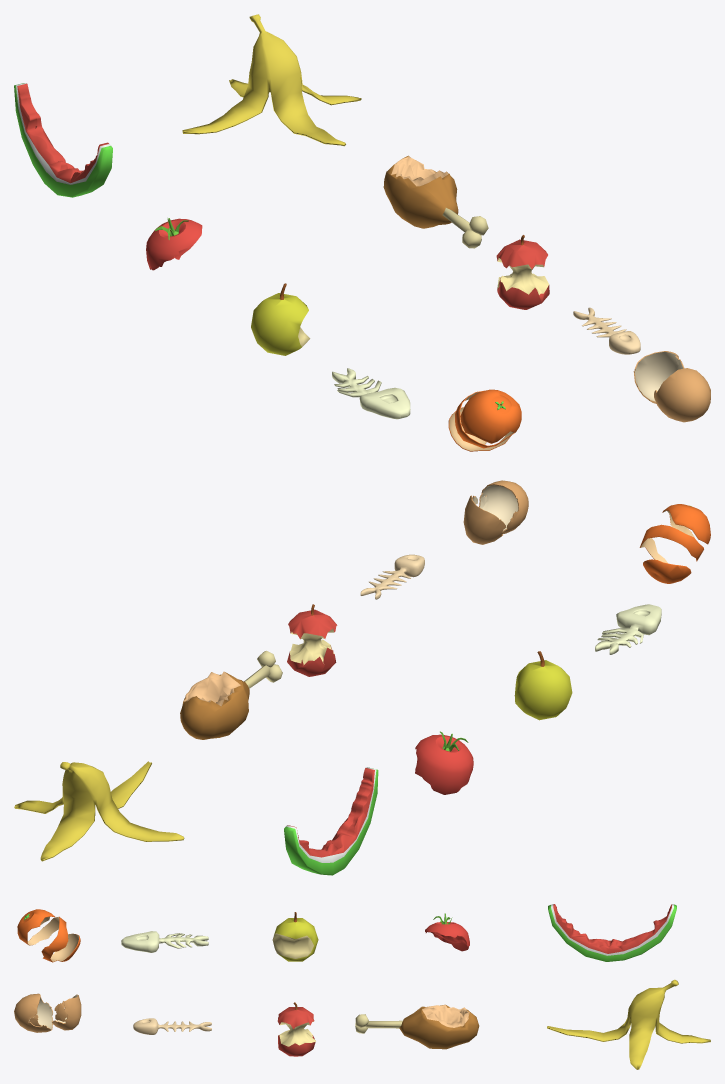
The model's file is ORGANIC_FINISH.fbx.
3 renders of one model, top to bottom at view 1: azimuth 30°, elevation 25°; view 2: azimuth 150°, elevation 25°; view 3: azimuth 270°, elevation 25°, orthographic. The views are drawn at different scales.
Parts seen in each view (by area): view 1: banana, chicken, watermelon, egg, mandarine, apple 2, apple 1, fish skeleton 2, tomato, fish skeleton 1; view 2: banana, chicken, watermelon, egg, mandarine, tomato, apple 2, apple 1, fish skeleton 2, fish skeleton 1; view 3: banana, chicken, watermelon, egg, mandarine, apple 2, apple 1, fish skeleton 2, tomato, fish skeleton 1.
Boxes of the visible parts, x1,y1,x2,y2 form: banana: (182,14,361,146); chicken: (383,155,488,248); watermelon: (14,83,112,197); egg: (633,351,710,422); mandarine: (448,389,521,451); apple 2: (251,283,310,355); apple 1: (496,235,549,309); fish skeleton 2: (332,368,410,419); tomato: (146,218,202,270); fish skeleton 1: (573,307,640,354); banana: (14,761,184,861); chicken: (180,650,282,739); watermelon: (284,767,378,875); egg: (463,480,528,544); mandarine: (639,504,710,583); tomato: (415,731,473,794); apple 2: (514,651,572,720); apple 1: (287,604,337,676); fish skeleton 2: (595,604,661,654); fish skeleton 1: (360,554,424,599); banana: (547,979,710,1069); chicken: (355,1004,479,1049); watermelon: (548,904,676,961); egg: (14,993,81,1032); mandarine: (17,909,80,962); apple 2: (272,912,318,961); apple 1: (277,1002,315,1056); fish skeleton 2: (121,931,208,952); tomato: (425,913,469,951); fish skeleton 1: (133,1018,211,1034).
Bounding box in the file's own units: 288 × 82.76 × 700.
